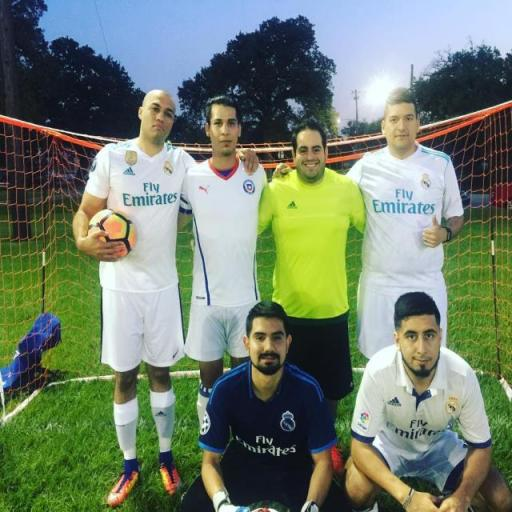Adidas: (386, 395, 402, 407), (285, 199, 298, 211), (122, 166, 136, 176)
Emirates: (370, 188, 437, 216), (120, 179, 178, 210), (232, 431, 296, 459), (388, 412, 447, 439)
